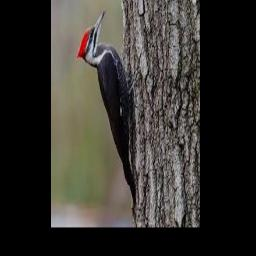Woodpecker: (76, 9, 138, 215)
